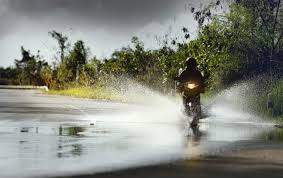motorcycle: (175, 64, 214, 121)
